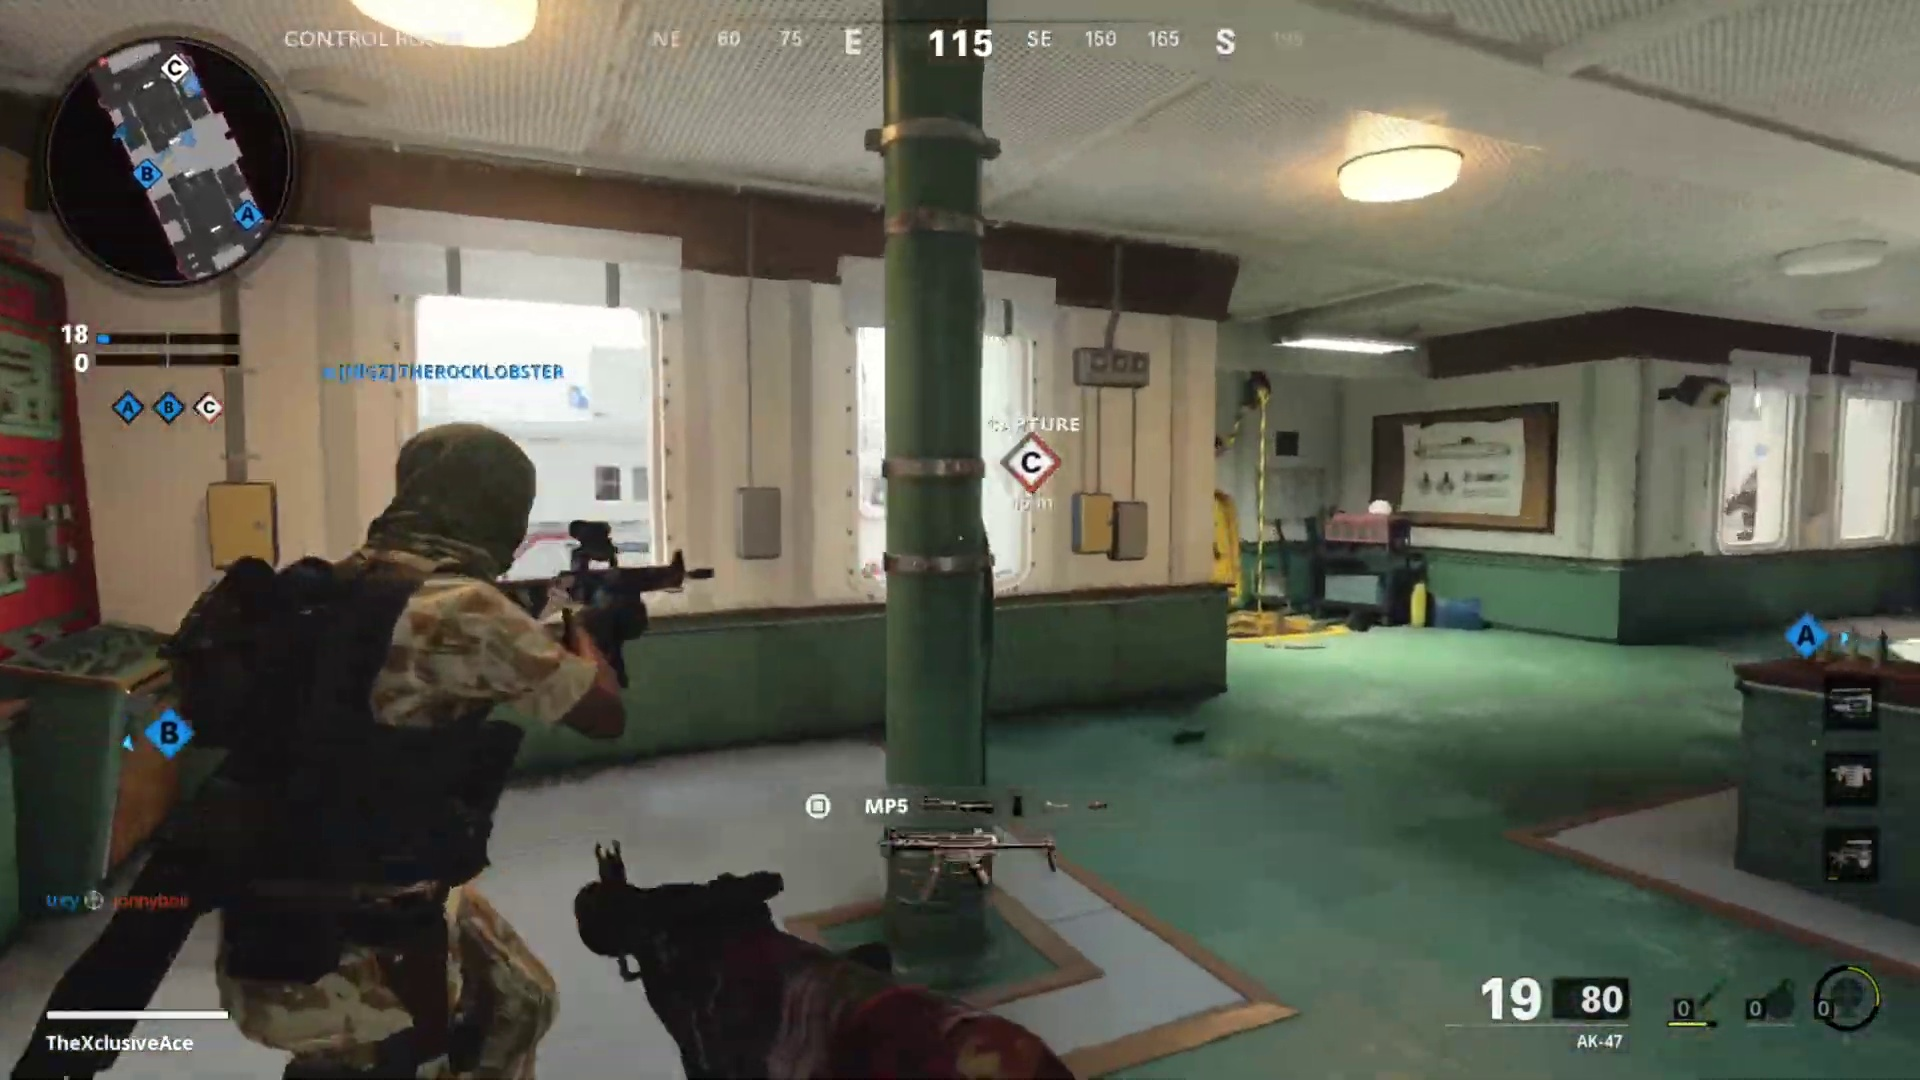head: (346, 411, 544, 611)
person: (63, 428, 637, 1067)
